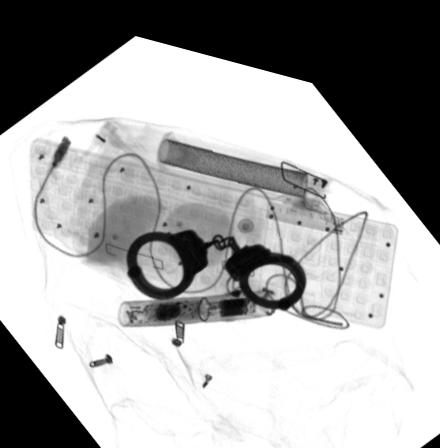Baton: (115, 272, 276, 320)
HandCuffs: (124, 215, 308, 295)
